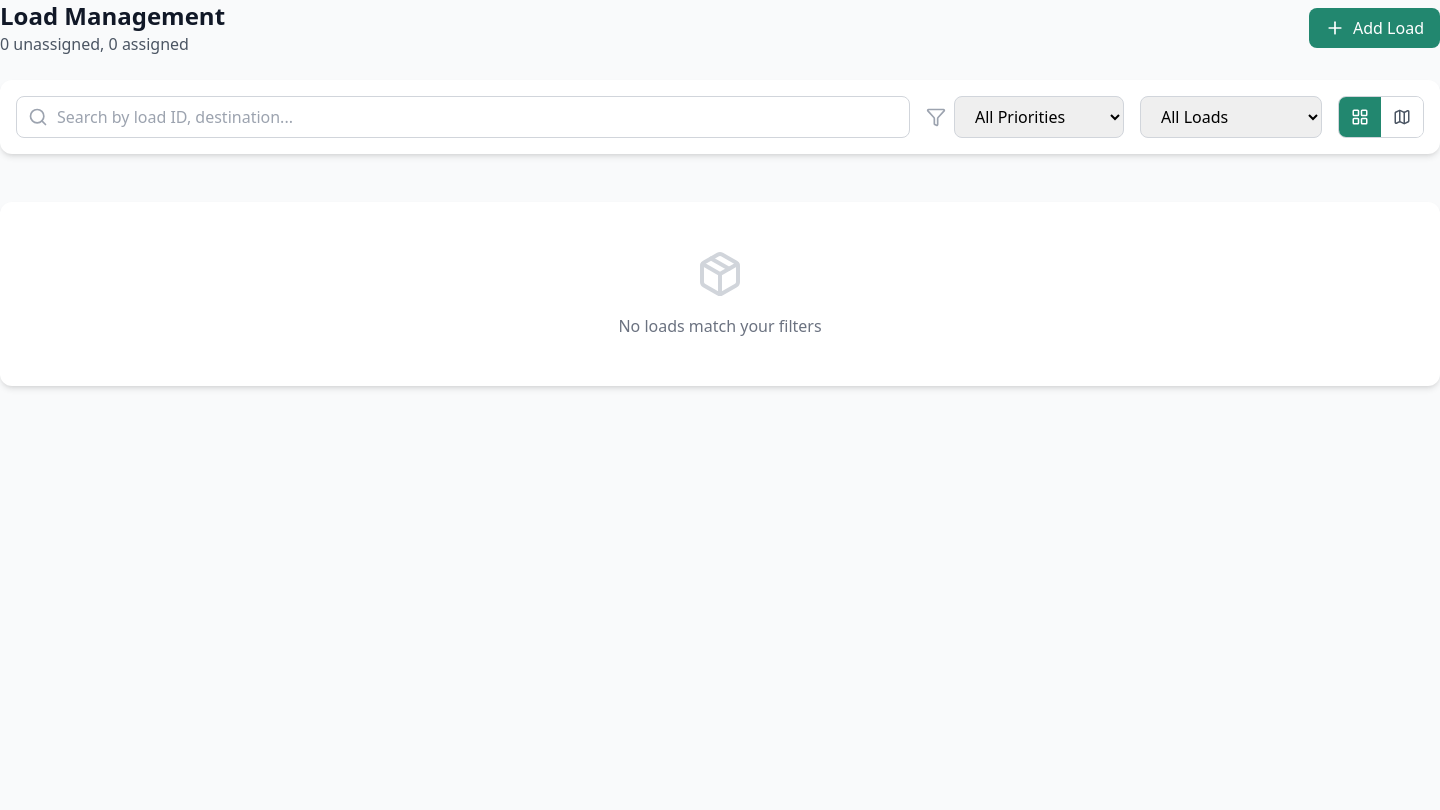
LoadList › add load modal › should close modal when X button is clicked
The width and height of the screenshot is (1440, 810).
Click the button "Add Load" at (1374, 28), box [1309,8,1439,48]
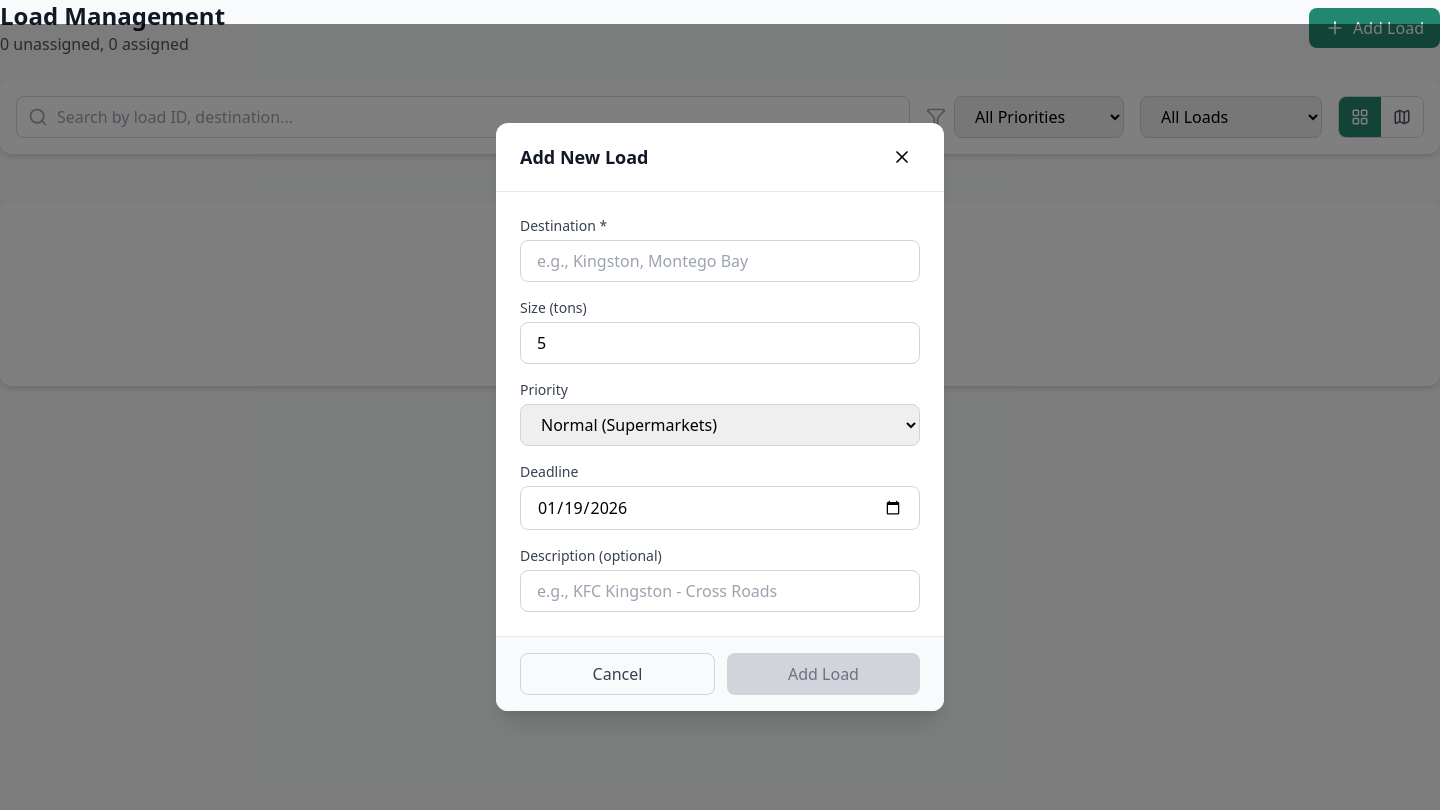
// Find the close button (X icon)
Click the 1st button at (902, 157), box [884,139,920,175]
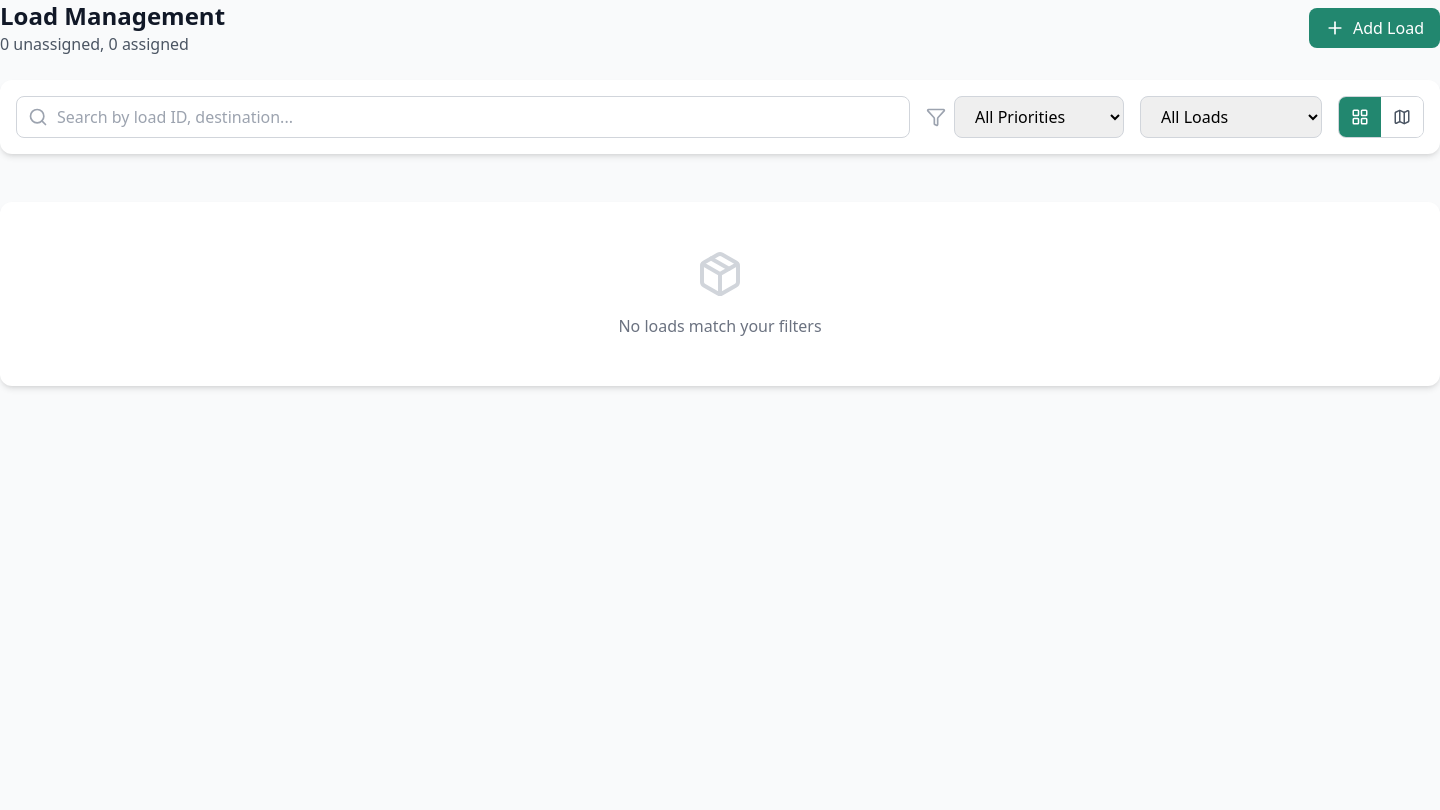
Result: the heading "Add New Load" is gone
